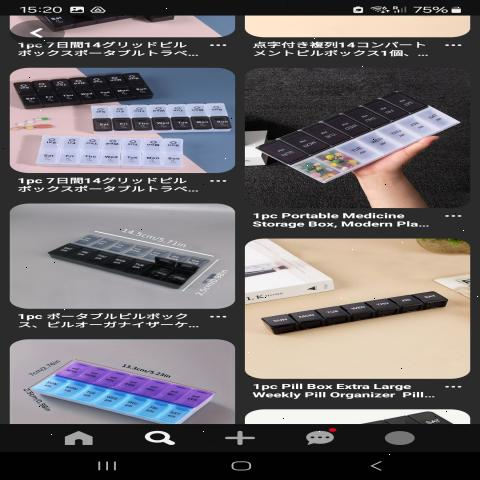PillBox: (251, 80, 455, 182), (31, 222, 238, 298), (247, 274, 455, 347), (93, 98, 238, 138), (18, 70, 154, 110)
